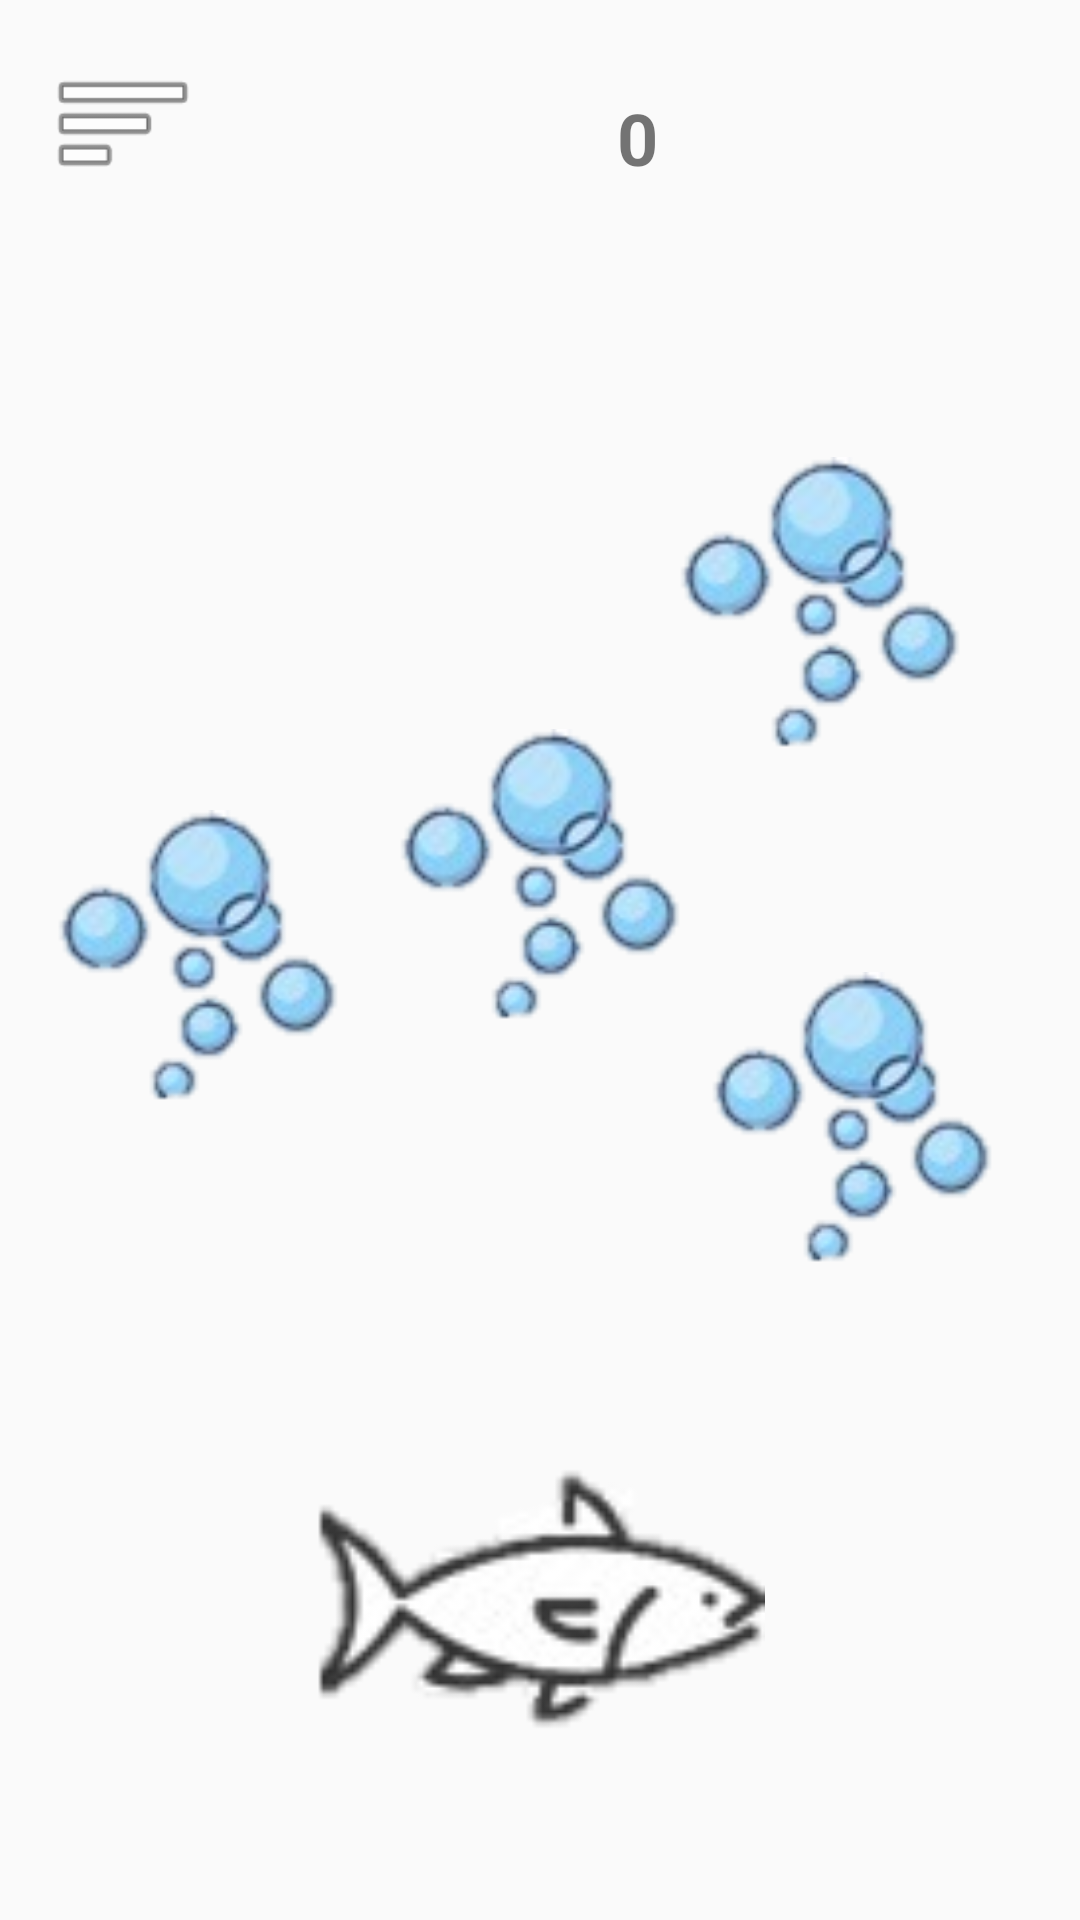

Named icons in this screenshot (1080 x 1920) and their centers, (x,y):
bubble: (820,603), (540,875), (198,956), (852,1118)
sort by size: (123,124)
